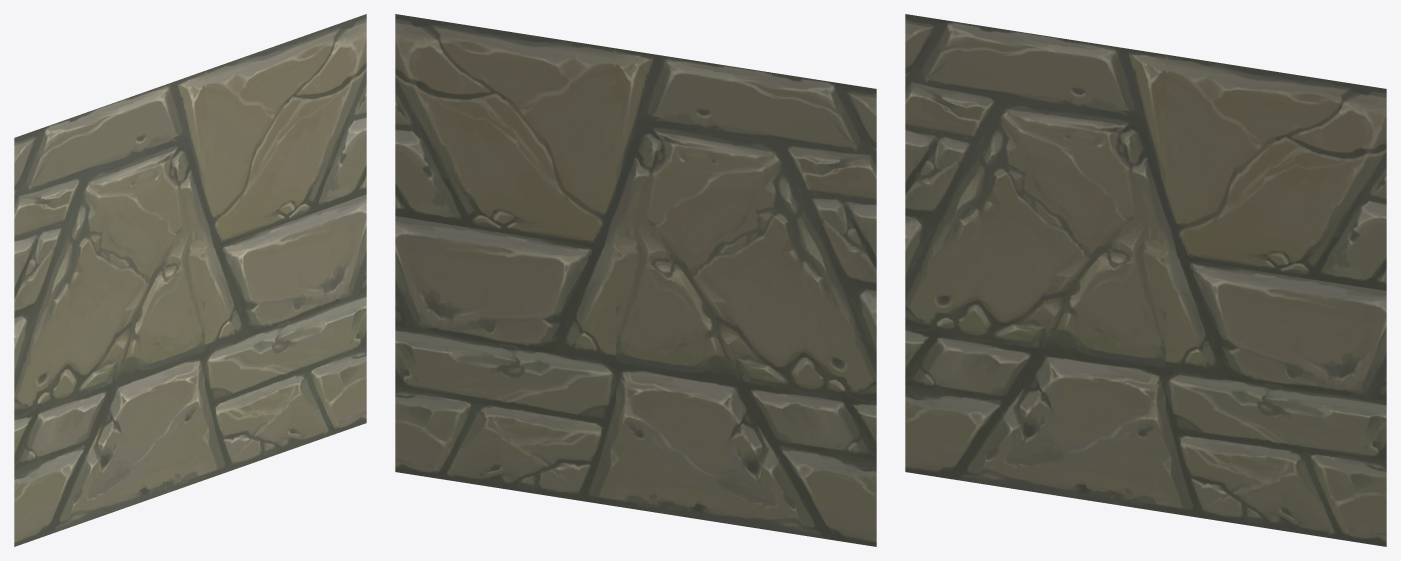
File: longcurve_4.fbx
3 renders of one model, left to right at view 1: azimuth 30°, elevation 25°; view 2: azimuth 150°, elevation 25°; view 3: azimuth 330°, elevation 25°, orthographic. The views are drawn at different scales.
Visible parts, largest first — view 1: round_tl_4_v2; view 2: round_tl_4_v2; view 3: round_tl_4_v2.
Part boxes in pixels (bbox=[...]): round_tl_4_v2: bbox=[14, 14, 366, 546]; round_tl_4_v2: bbox=[395, 14, 876, 546]; round_tl_4_v2: bbox=[905, 14, 1386, 546].
Size of the model in its own units: 2 by 2 by 0.3445.
